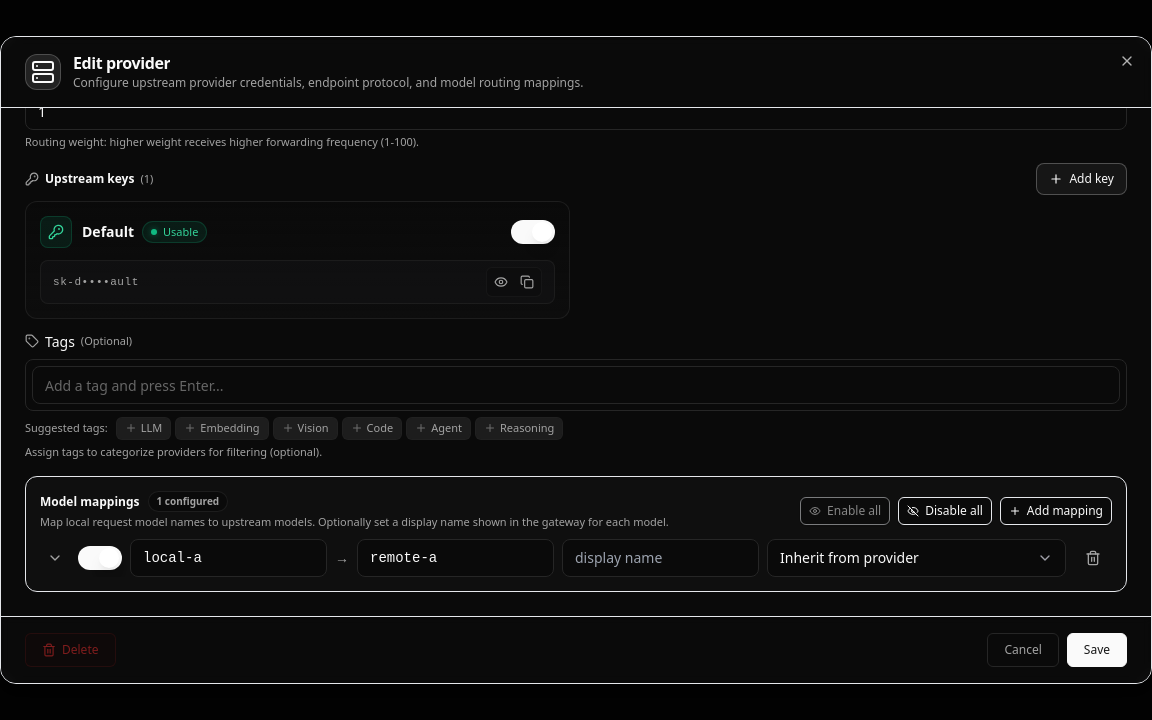
Test case: ProviderDetailDialog 模型映射 › mappingRowStartsWithDetailsCollapsedAndArrowTogglesPriceAndEfforts
(page scrolled)
Click the button with test id "ai-gateway-mapping-expand-0" at [55, 558], box [40, 538, 70, 576]
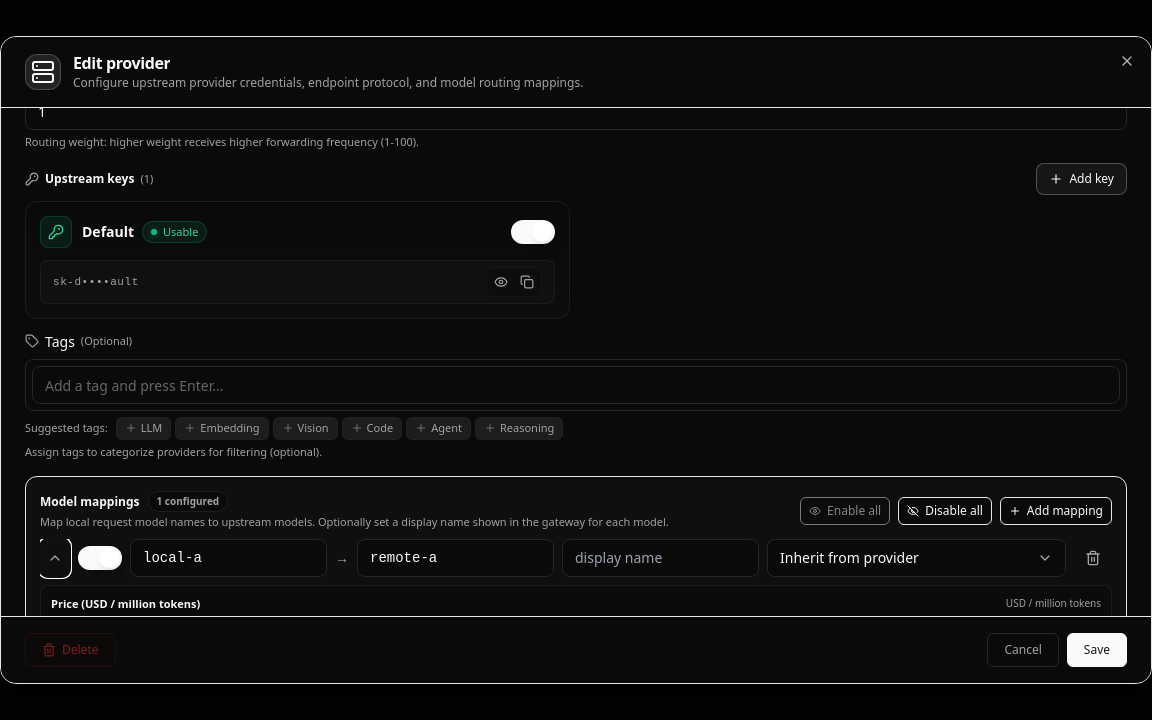
Expected: the button with test id "ai-gateway-mapping-expand-0" is expanded
Click the button with test id "ai-gateway-mapping-expand-0" at [55, 558], box [40, 538, 70, 576]
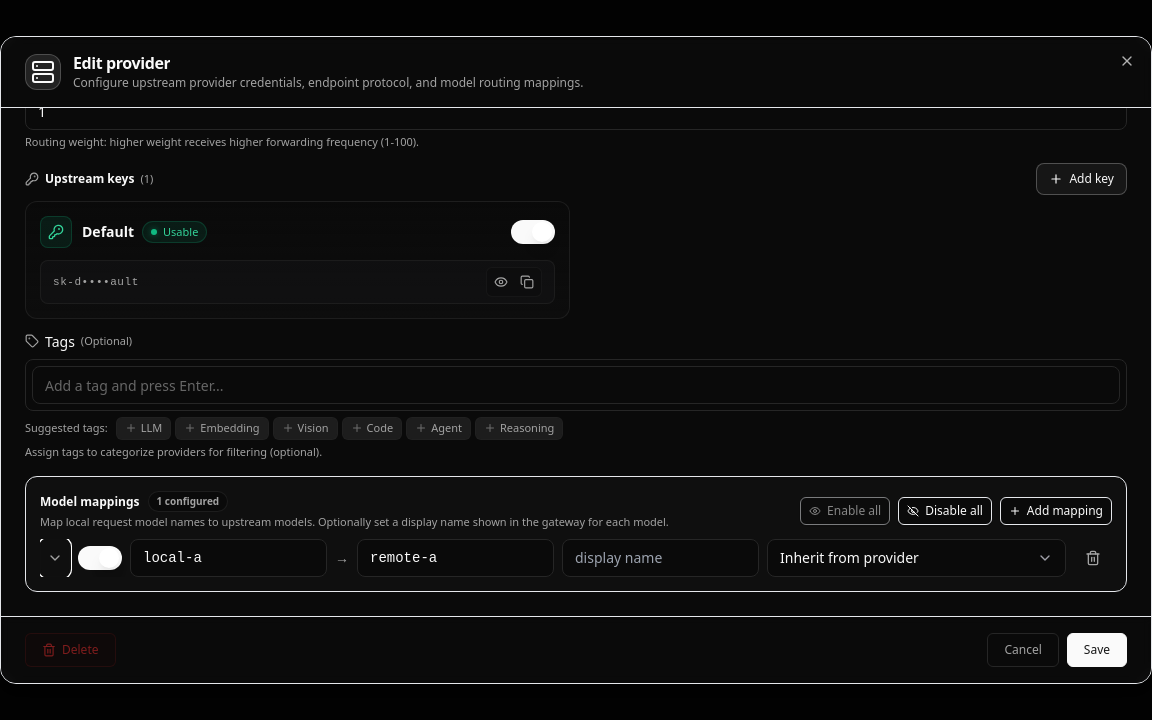
Expected: the button with test id "ai-gateway-mapping-expand-0" is collapsed, [40, 538, 70, 576]
Expected: the element with test id "ai-gateway-mapping-price-0" is gone
